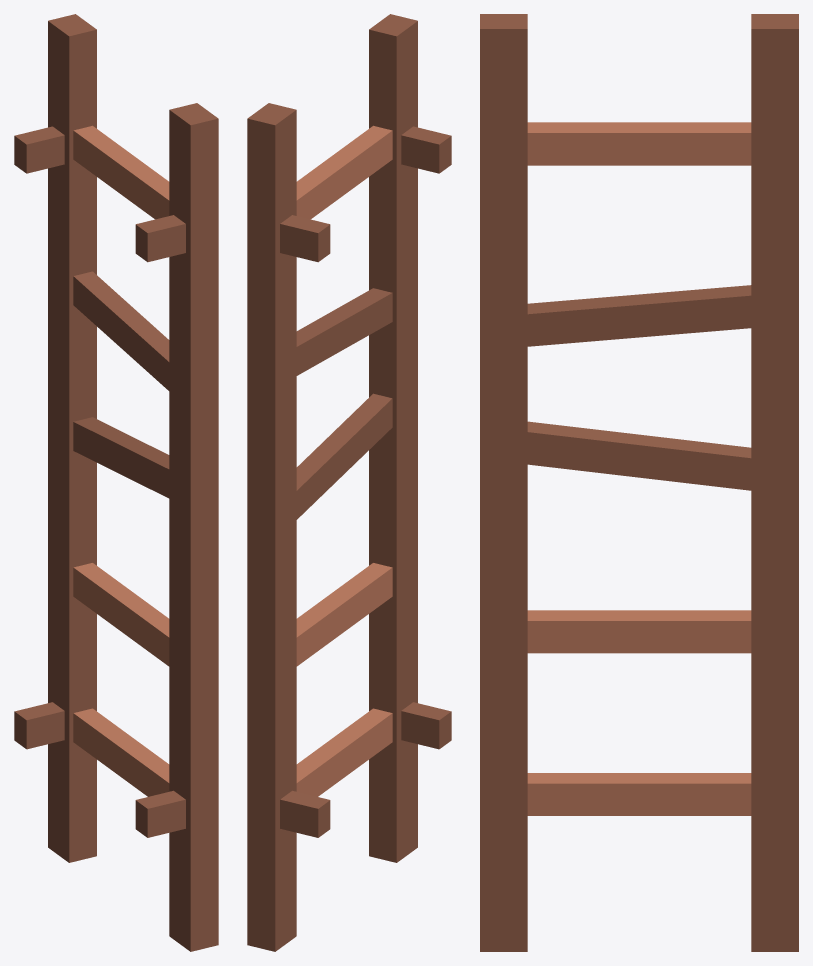
The model's file is Ladder B.fbx.
The picture shows the model from 3 angles, left to right: view 1: azimuth 30°, elevation 25°; view 2: azimuth 150°, elevation 25°; view 3: azimuth 270°, elevation 25°; orthographic projection. The views are drawn at different scales.
Parts seen in each view (by area): view 1: Ladder B; view 2: Ladder B; view 3: Ladder B.
Part boxes in pixels (bbox=[...]): Ladder B: bbox=[14, 14, 218, 951]; Ladder B: bbox=[247, 14, 451, 951]; Ladder B: bbox=[480, 14, 798, 951].
Size of the model in its own units: 30.49 by 365 by 114.
